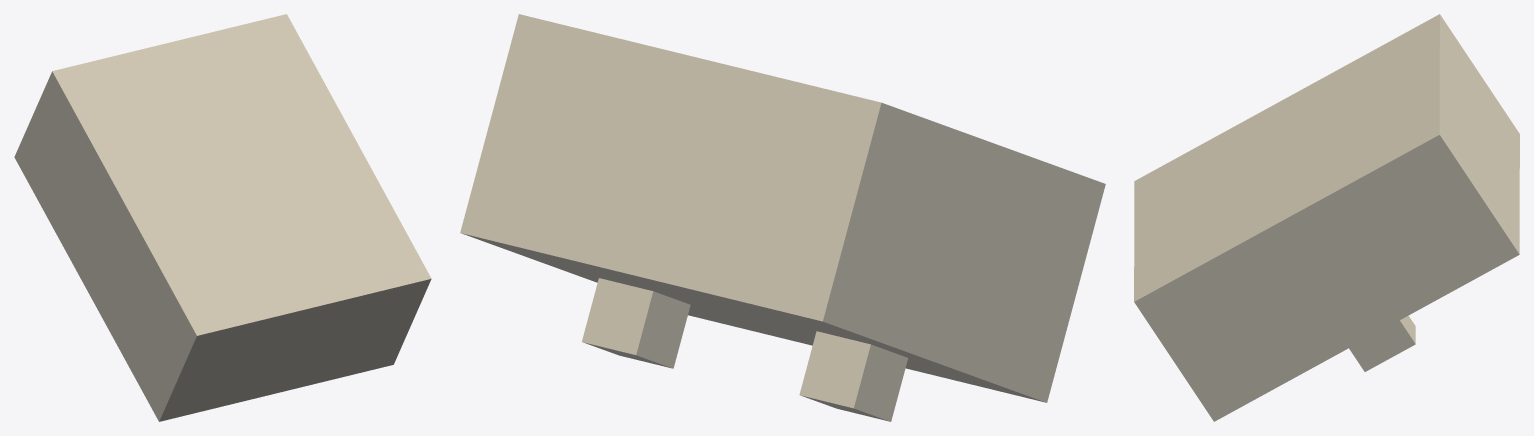
File: BRAT_M4_SHOULDER_R_1_1.glb
3 views of the same model, side by side, from view 1: azimuth 30°, elevation 25°; view 2: azimuth 150°, elevation 25°; view 3: azimuth 270°, elevation 25° (orthographic). The views are drawn at different scales.
Visible parts, largest first — view 1: BRAT_M4_SHOULDER_R_1_1.001; view 2: BRAT_M4_SHOULDER_R_1_1.001; view 3: BRAT_M4_SHOULDER_R_1_1.001.
Boxes of the visible parts, left/top/right/bottom form: BRAT_M4_SHOULDER_R_1_1.001: left=14, top=14, right=431, bottom=421; BRAT_M4_SHOULDER_R_1_1.001: left=460, top=14, right=1105, bottom=421; BRAT_M4_SHOULDER_R_1_1.001: left=1134, top=14, right=1519, bottom=421.
Size of the model in its own units: 0.2402 by 0.2664 by 0.3241.
